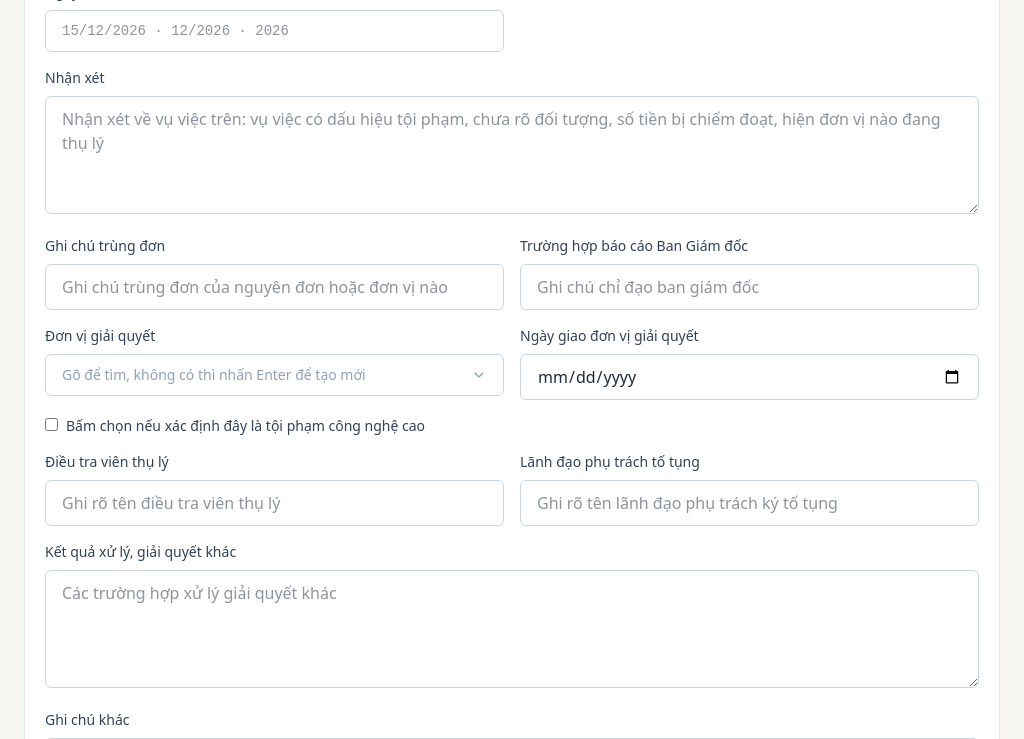
it: Incident form petition interaction parity › uses searchable quick-create directory controls for source and resolving unit
(page scrolled)
Click the dropdown with test id "field-supervisingUnit-trigger". click: [274, 375]
box: [45,354,504,396]
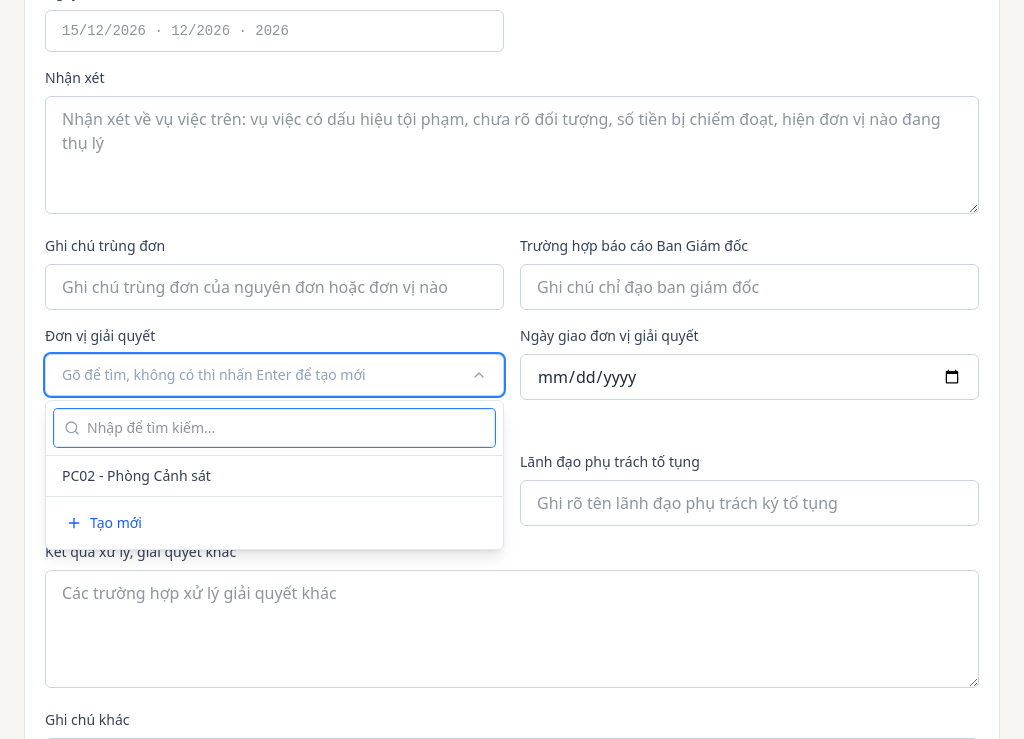
Check: the option with test id "field-supervisingUnit-option-PC02 - Phòng Cảnh sát" is shown, box [46,456,503,496]
Type "Đơn vị mới" into the field with test id "field-supervisingUnit-search". click: [274, 428]
box: [54,409,495,447]
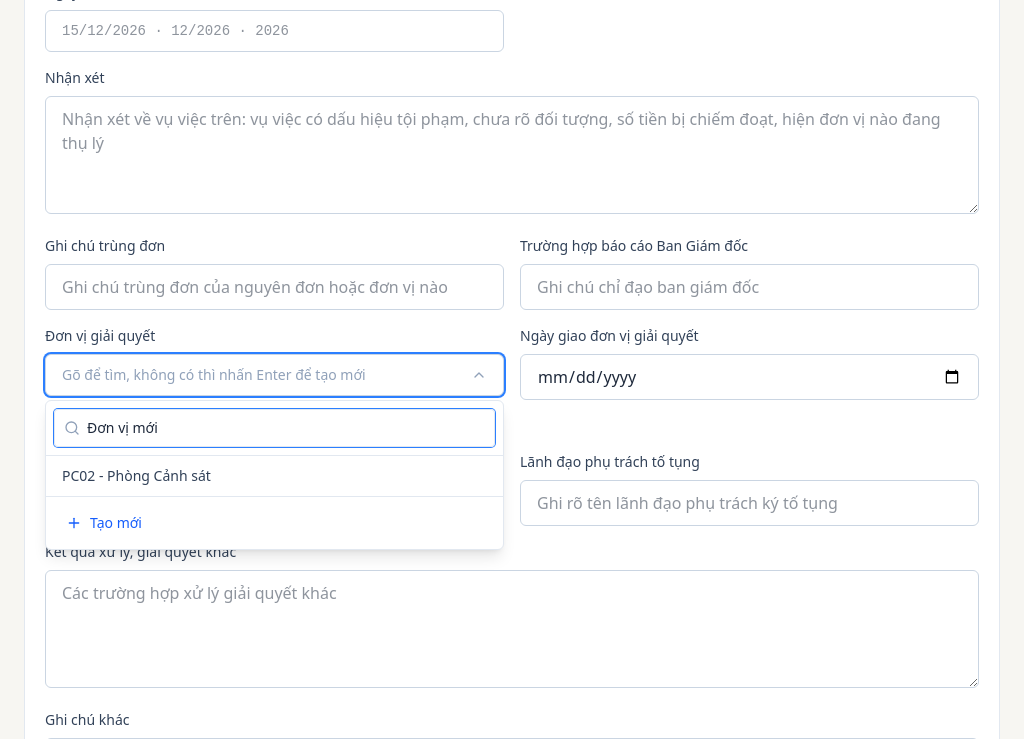
Click the button with test id "field-supervisingUnit-create-new". click: [116, 522]
box: [54,505,495,541]
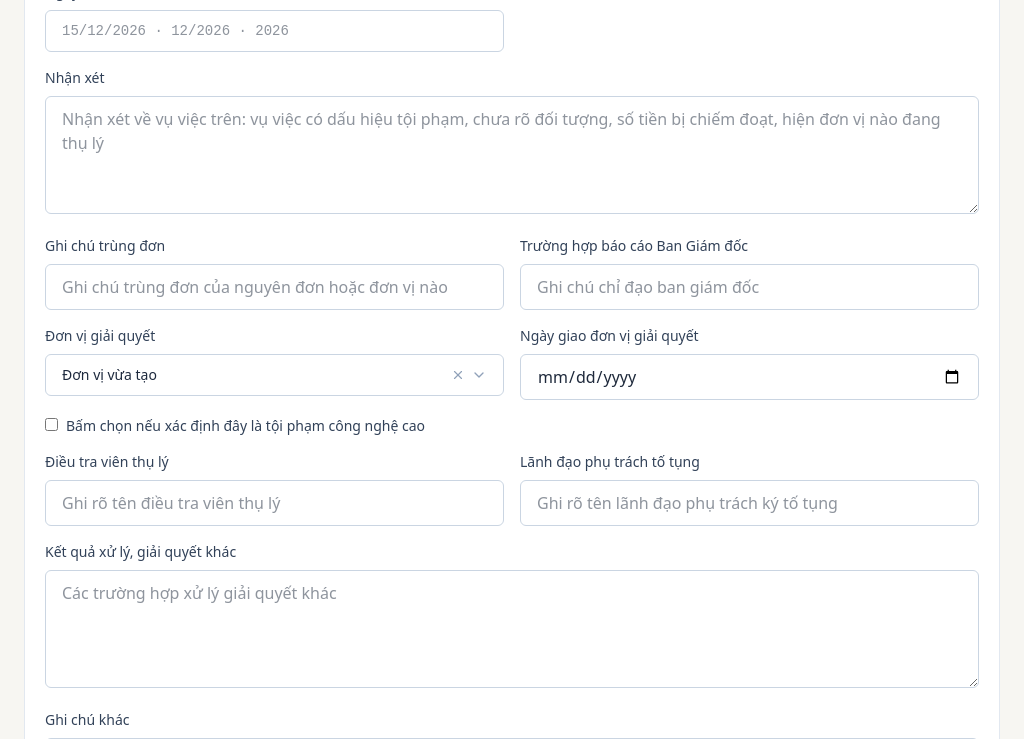
Check: the dropdown with test id "field-supervisingUnit-trigger" reads "Đơn vị vừa tạo", box [45,354,504,396]
